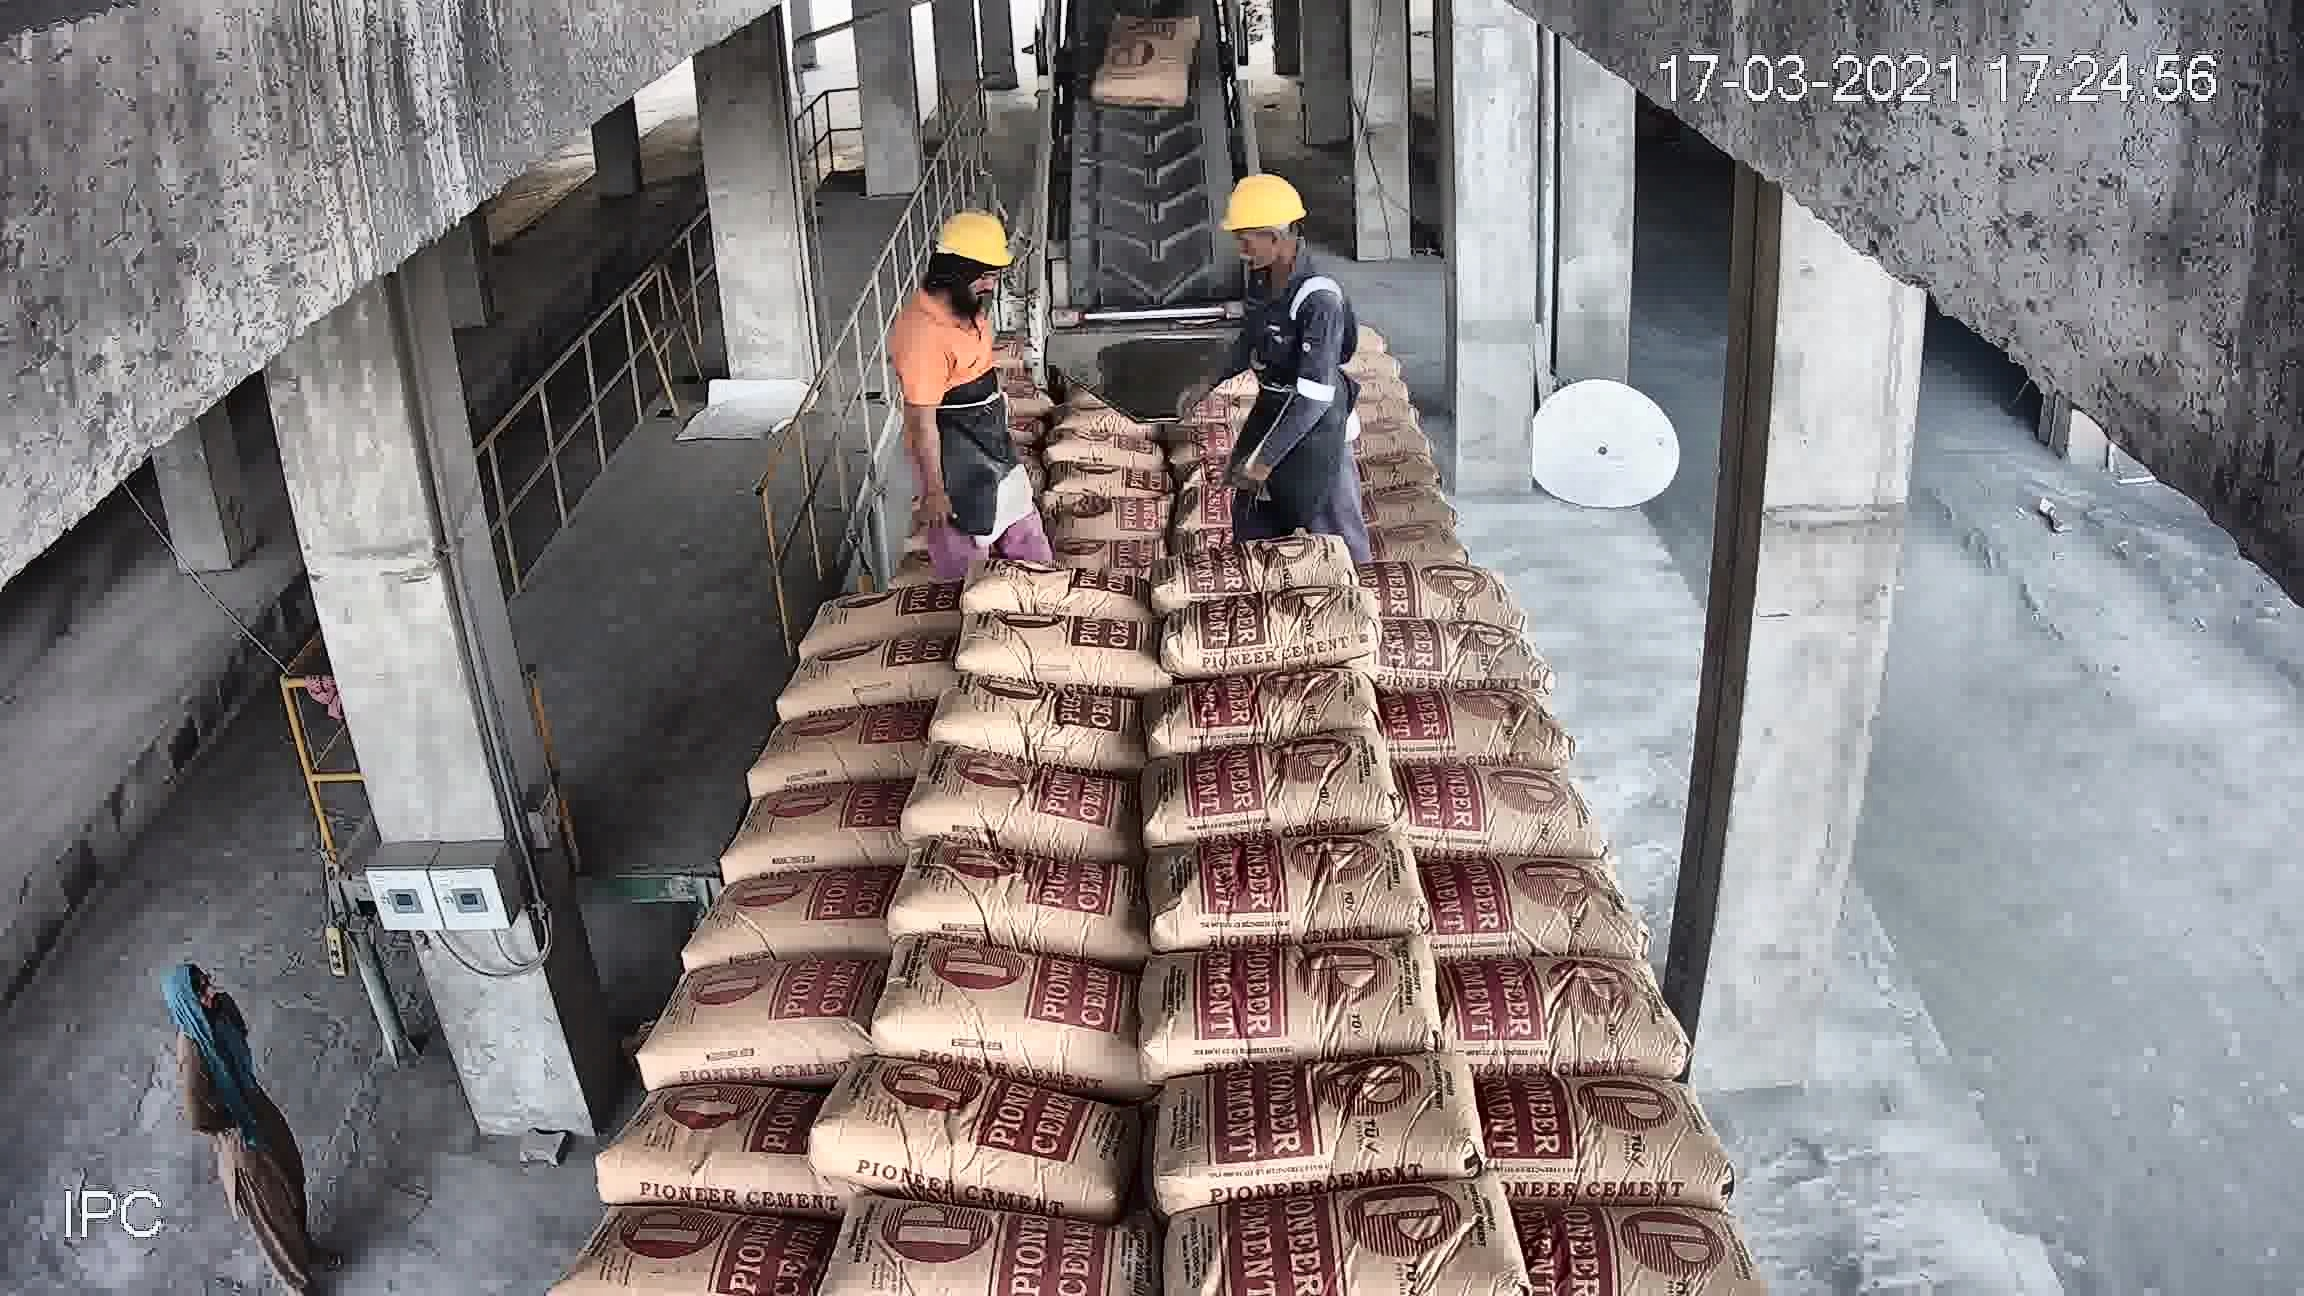bag: (1177, 286, 1326, 380)
bag_h: (1116, 1169, 1522, 1296), (824, 1051, 1131, 1212), (1141, 923, 1445, 1086), (1155, 1059, 1480, 1211), (1487, 1063, 1726, 1230), (614, 957, 899, 1093), (1435, 957, 1701, 1100), (888, 945, 1119, 1097), (1131, 728, 1400, 850), (1163, 832, 1423, 957), (567, 1086, 831, 1206), (831, 1201, 1157, 1296), (1423, 829, 1625, 967), (862, 862, 1135, 964), (1146, 573, 1393, 679), (1157, 642, 1407, 744), (529, 1204, 828, 1285), (918, 665, 1161, 763), (957, 578, 1158, 690), (679, 866, 907, 964), (707, 779, 915, 880), (954, 532, 1150, 638), (907, 774, 1150, 858), (1131, 524, 1359, 612), (1551, 1195, 1742, 1296), (712, 696, 938, 782), (1143, 472, 1343, 565), (1329, 552, 1532, 642), (772, 635, 956, 731), (1393, 676, 1563, 771), (1324, 623, 1551, 690), (798, 574, 976, 658), (1423, 764, 1582, 856), (1339, 513, 1518, 579), (1135, 446, 1324, 506), (959, 503, 1147, 562), (1329, 411, 1478, 484), (1155, 408, 1329, 468), (1336, 472, 1500, 533), (813, 521, 965, 587), (831, 479, 983, 543), (987, 457, 1138, 521), (1320, 383, 1435, 448), (870, 405, 1006, 456), (980, 435, 1154, 472), (864, 453, 991, 500), (1090, 354, 1161, 407), (1328, 366, 1407, 400)
belt: (1055, 13, 1256, 253)
